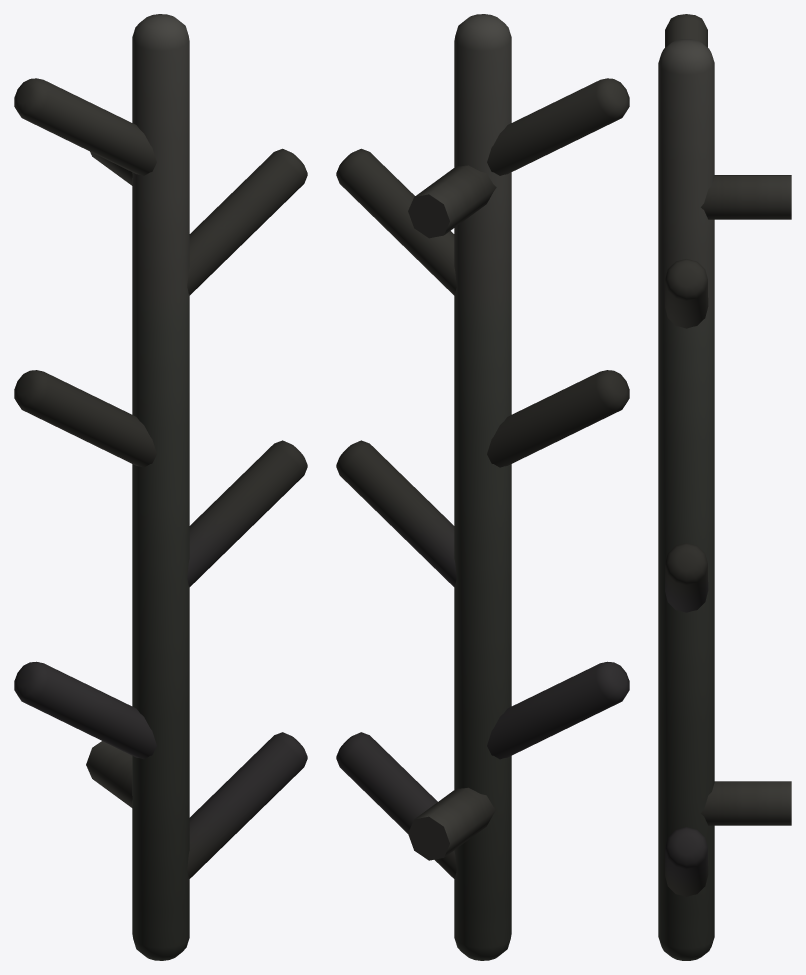
File: Hanger_02.glb
3 renders of one model, left to right at view 1: azimuth 30°, elevation 25°; view 2: azimuth 150°, elevation 25°; view 3: azimuth 270°, elevation 25°, orthographic. The views are drawn at different scales.
Visible parts, largest first — view 1: Hanger_02; view 2: Hanger_02; view 3: Hanger_02.
Boxes of the visible parts, x1,y1,x2,y2 form: Hanger_02: [14, 14, 307, 960]; Hanger_02: [336, 14, 629, 960]; Hanger_02: [658, 14, 791, 960].
Size of the model in its own units: 0.399 by 1.25 by 0.1649.
1 material, 1 textured.
